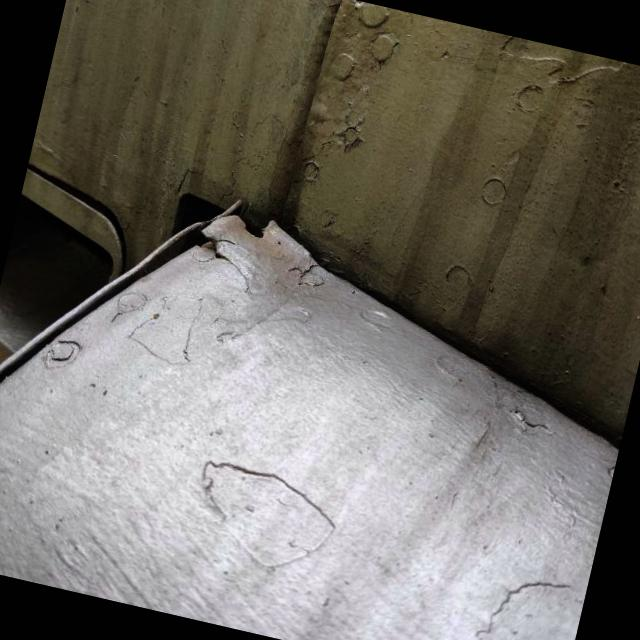crack: (162, 208, 275, 297)
